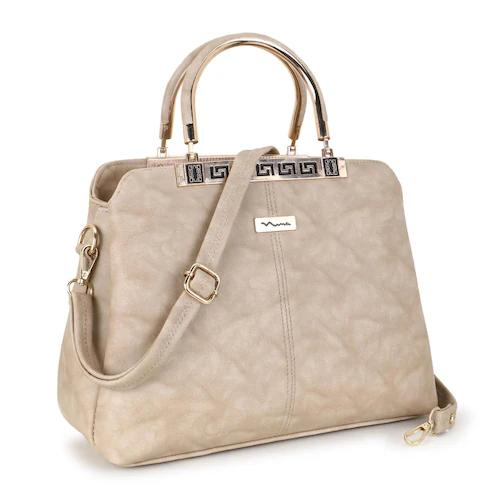handbag: (57, 32, 456, 470)
